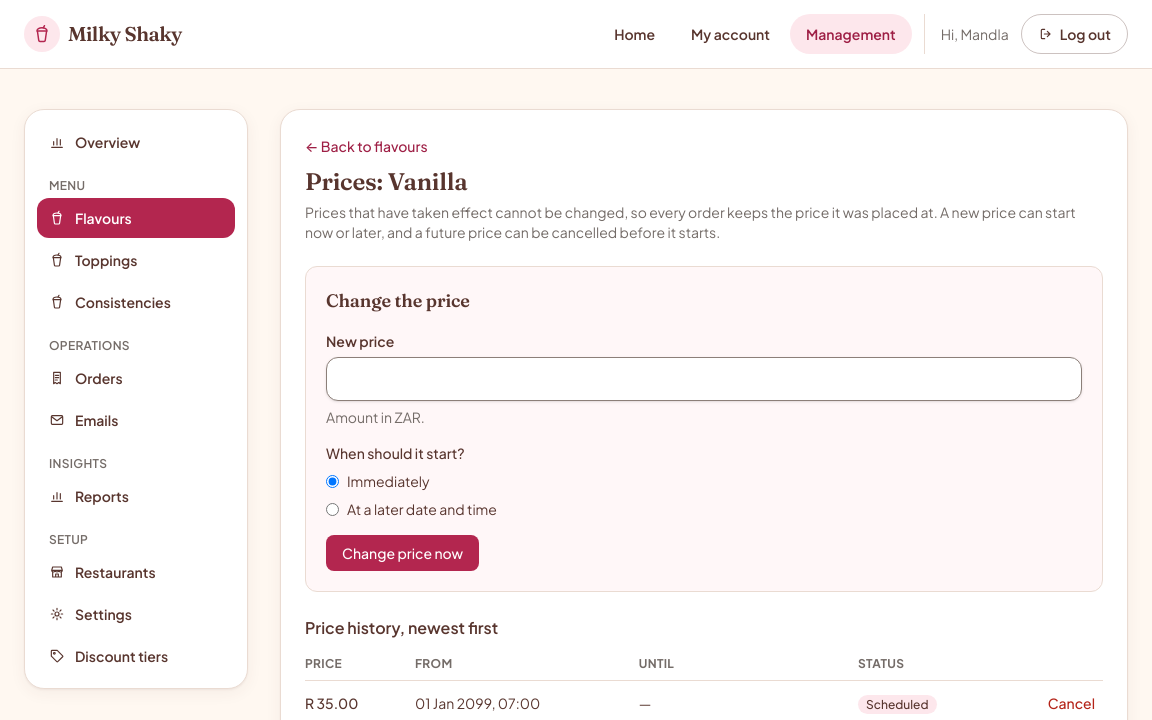
Test: price management › cancels a scheduled price after confirmation
Click the button with aria-label "Cancel the scheduled price": click(1071, 703) [1040,689,1103,717]
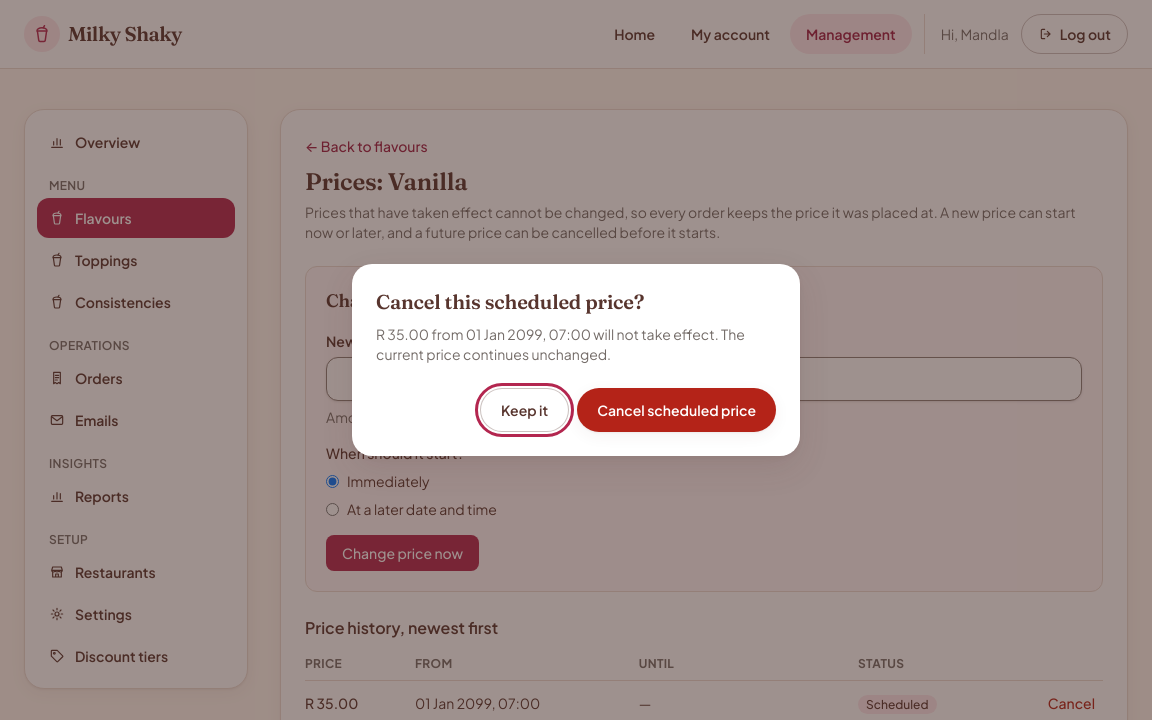
Click the button "Cancel scheduled price": click(677, 410) [577,388,776,432]
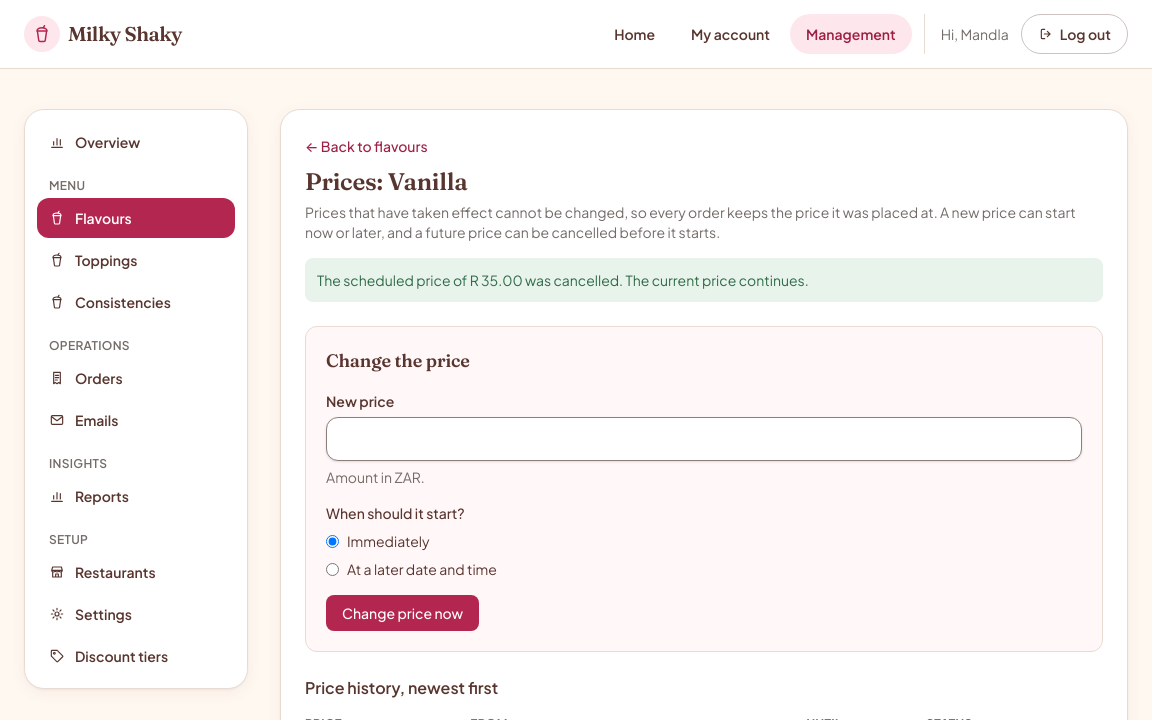
Check: the text "The scheduled price of R 35.00 was cancelled. The current price continues." is shown, box [305,258,1103,302]
